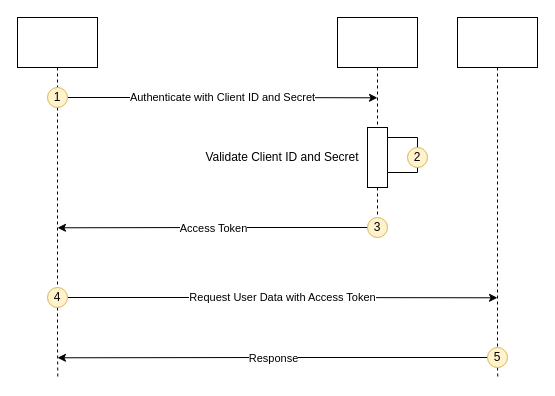
Image size: 555x396. Some labels were removed from this diagram. The shapes that lost their labels are listed below. From the top down, each one's centre as x and y in pixels, then its label:
At point 57,42: "Client Application".
At point 377,42: "Authorization Endpoint".
At point 497,42: "API Endpoint".
